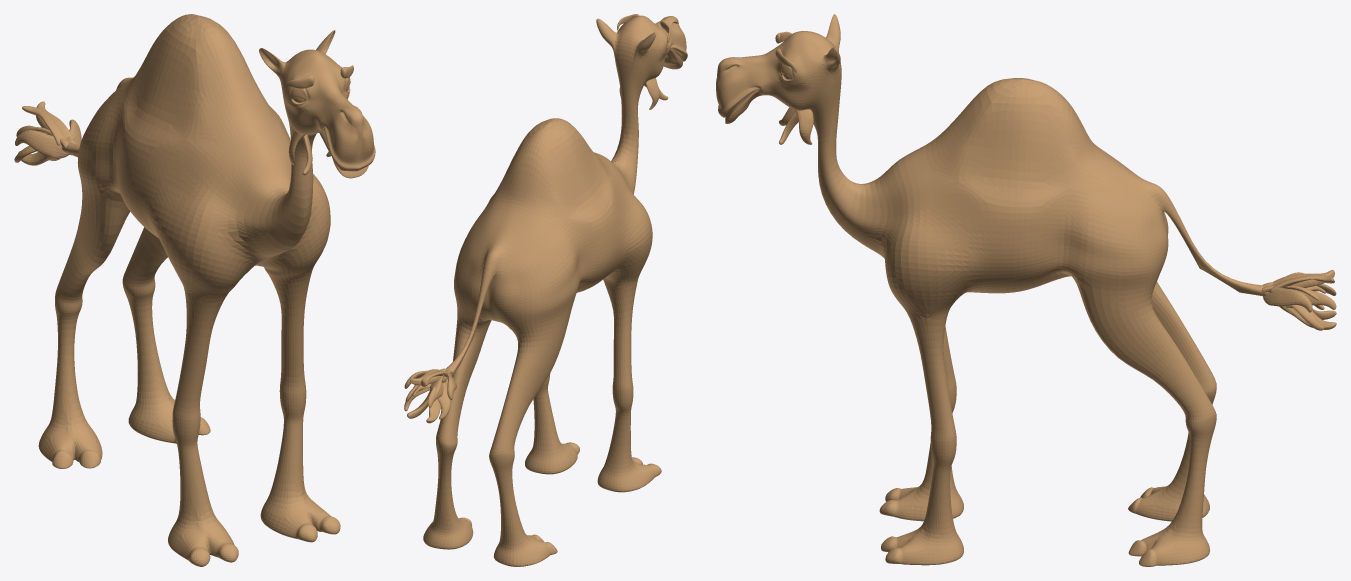
The model's file is camel_realistic.glb.
3 views of the same model, side by side, from view 1: azimuth 30°, elevation 25°; view 2: azimuth 150°, elevation 25°; view 3: azimuth 270°, elevation 25° (orthographic). The views are drawn at different scales.
Visible parts, largest first — view 1: 10007_Camel_v03; view 2: 10007_Camel_v03; view 3: 10007_Camel_v03.
Boxes of the visible parts, x1,y1,x2,y2 form: 10007_Camel_v03: [14, 14, 375, 566]; 10007_Camel_v03: [404, 14, 687, 566]; 10007_Camel_v03: [716, 14, 1336, 566].
Size of the model in its own units: 0.3066 by 1 by 1.12.
